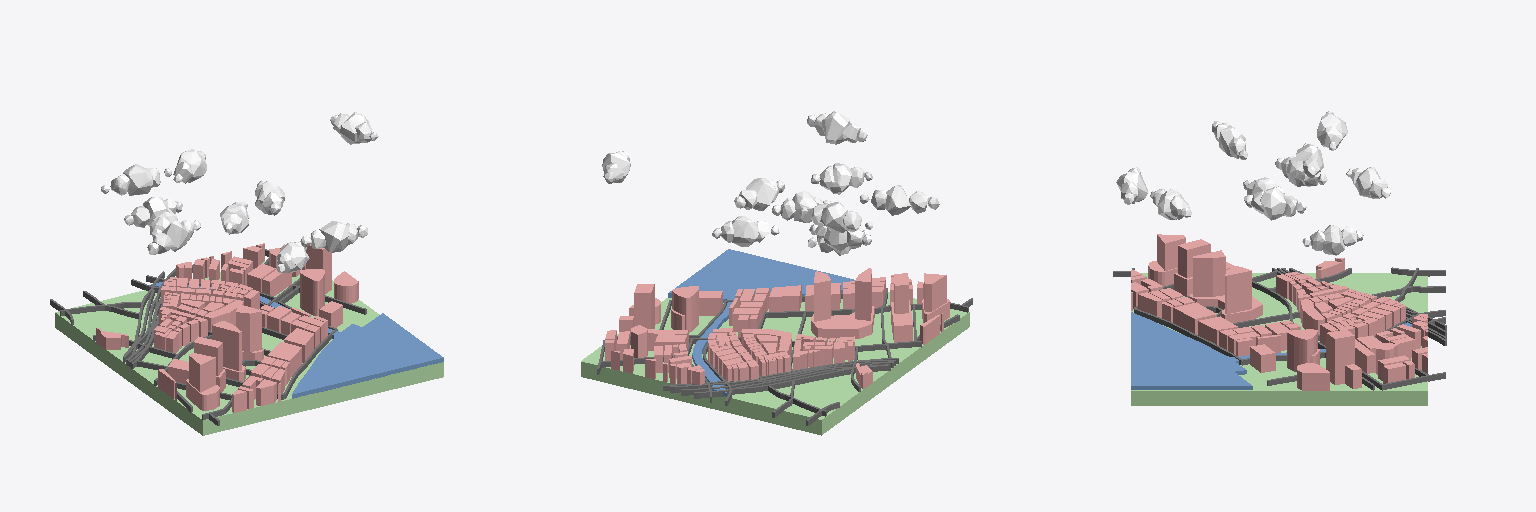
Rendered from city.obj.
The picture shows the model from 3 angles: view 1: azimuth 30°, elevation 25°; view 2: azimuth 150°, elevation 25°; view 3: azimuth 270°, elevation 25°; orthographic projection.
Parts seen in each view (by area): view 1: NODE_282, NODE_257, NODE_284, NODE_283, NODE_14, NODE_10, NODE_18, NODE_16, NODE_11, NODE_13, NODE_15, NODE_12 (+1 smaller); view 2: NODE_282, NODE_257, NODE_283, NODE_284, NODE_18, NODE_14, NODE_10, NODE_13, NODE_12, NODE_15, NODE_19, NODE_11 (+1 smaller); view 3: NODE_282, NODE_257, NODE_284, NODE_283, NODE_15, NODE_16, NODE_13, NODE_12, NODE_18, NODE_10, NODE_17, NODE_14 (+1 smaller).
Part boxes in pixels (x1,y1,x2,y2): NODE_282: (96, 243, 358, 412); NODE_257: (55, 261, 443, 435); NODE_284: (151, 282, 443, 398); NODE_283: (50, 249, 366, 425); NODE_14: (300, 221, 367, 252); NODE_10: (101, 164, 171, 195); NODE_18: (147, 220, 200, 254); NODE_16: (330, 112, 378, 144); NODE_11: (124, 197, 182, 227); NODE_13: (173, 149, 206, 183); NODE_15: (255, 181, 284, 215); NODE_12: (276, 242, 309, 272); NODE_282: (605, 268, 949, 388); NODE_257: (581, 292, 969, 435); NODE_283: (597, 288, 972, 425); NODE_284: (668, 249, 854, 396); NODE_18: (860, 185, 939, 215); NODE_14: (807, 111, 867, 144); NODE_10: (799, 202, 872, 232); NODE_13: (712, 216, 779, 246); NODE_12: (811, 163, 872, 194); NODE_15: (734, 178, 784, 210); NODE_19: (772, 191, 831, 222); NODE_11: (809, 224, 871, 251); NODE_282: (1131, 234, 1427, 390); NODE_257: (1131, 273, 1427, 405); NODE_284: (1131, 312, 1411, 389); NODE_283: (1113, 267, 1446, 390); NODE_15: (1244, 187, 1306, 220); NODE_16: (1302, 225, 1363, 255); NODE_13: (1346, 167, 1390, 198); NODE_12: (1150, 189, 1191, 219); NODE_18: (1212, 121, 1247, 159); NODE_10: (1317, 111, 1347, 150); NODE_17: (1275, 156, 1327, 186); NODE_14: (1116, 167, 1147, 204).
Bounding box in the file's own units: 63.37 × 41.24 × 65.97.